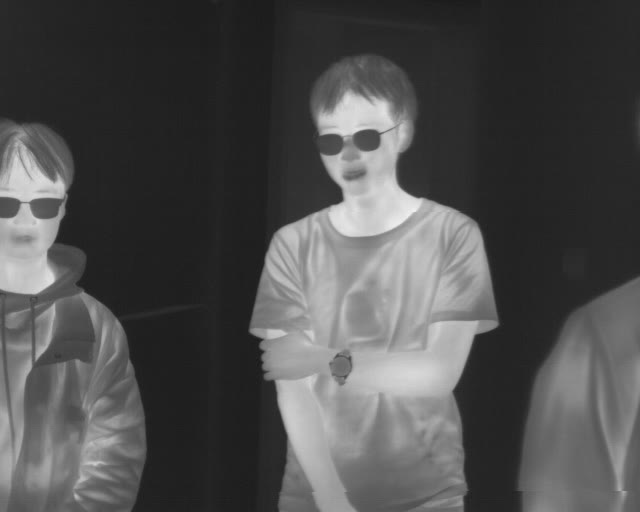face: (309, 53, 415, 196), (1, 116, 75, 259)
